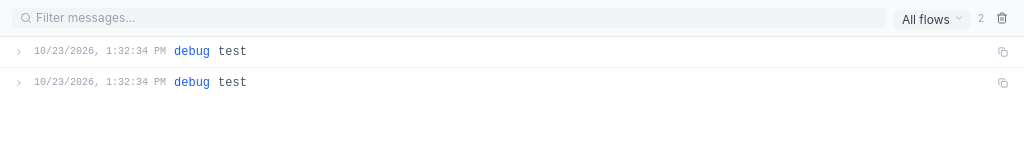
Scenario: DebugPanel › clear › clears all messages when clear button clicked
Expected: the number of elements with test id "debug-message-row" is 2, [0, 37, 1023, 68]; [0, 68, 1023, 98]
Click the button with test id "debug-clear-btn" at (1002, 18), box [992, 8, 1012, 28]
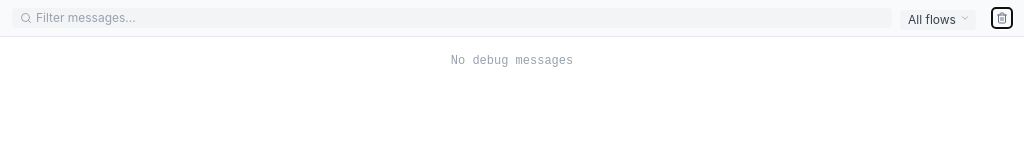
Now the text "No debug messages" is shown, box [451, 54, 573, 68]
